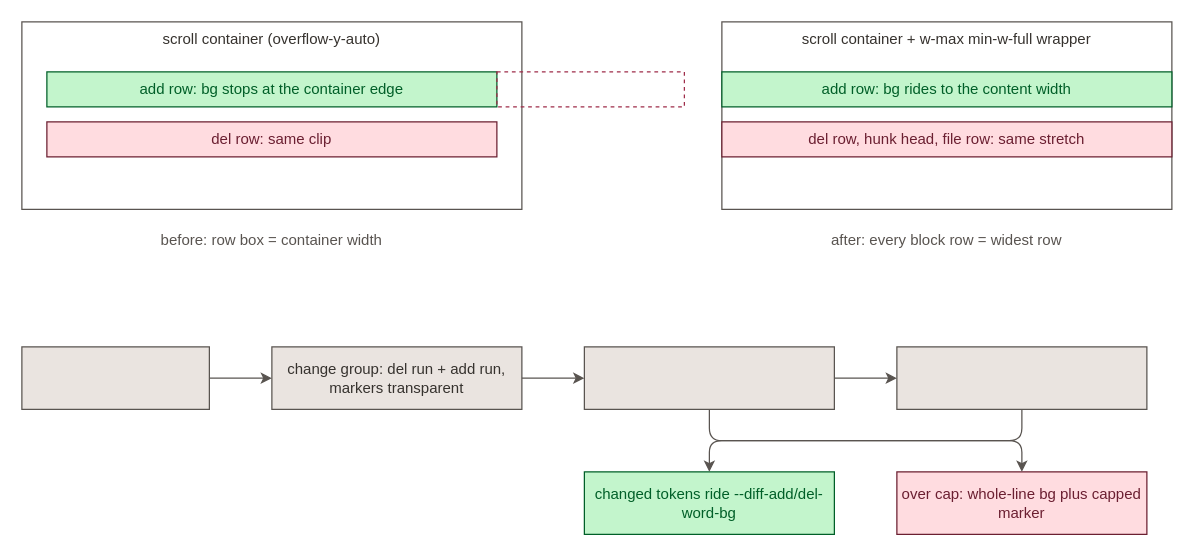
Image size: 1194x556. Some labels were removed from this diagram. Here are the shapes that lost their labels. From the top down, the centre of each, then its label:
the point at 590,89: text overflows, no bg
the point at 115,377: hunk lines
the point at 708,377: pair del[i] with add[i], i below min(m,n)
the point at 1021,377: diffWordsWithSpace (diff v9)
